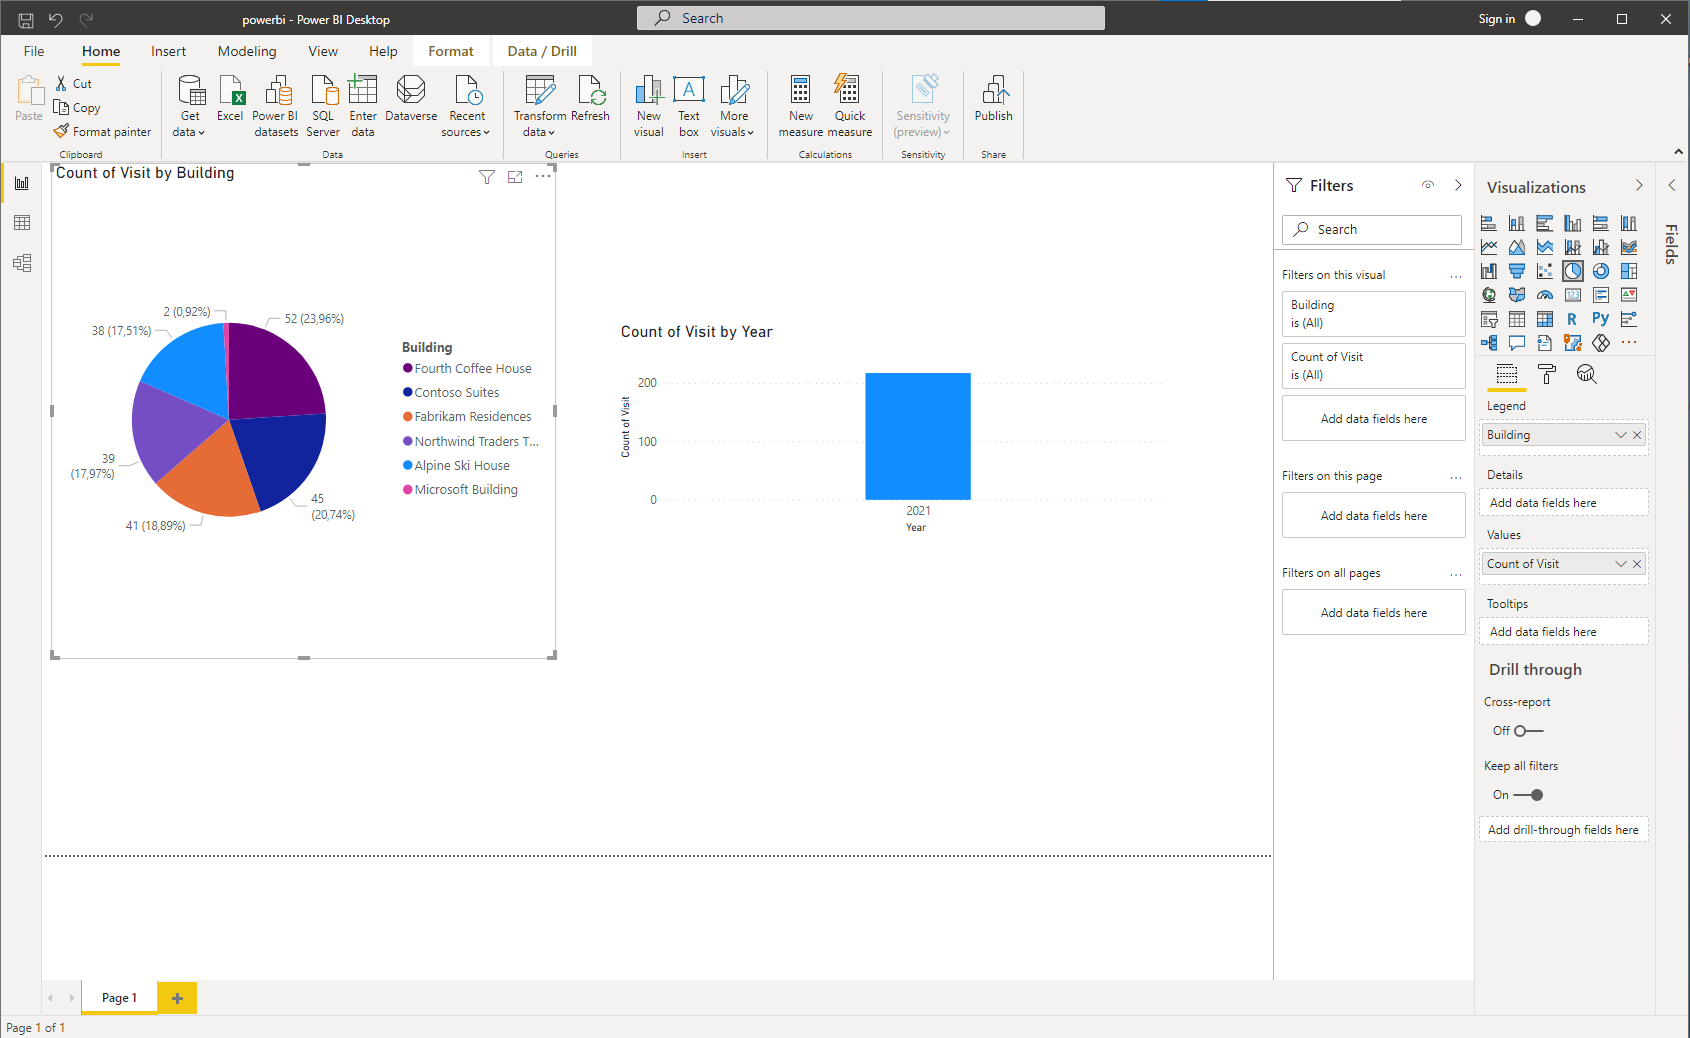

Layout of this report page (visuals, bound fields, positions):
{"tool":"powerbi","page":{"name":"Page 1","canvas":[1280,720],"ordinal":0},"visuals":[{"type":"pieChart","fields":{"Category":["bc_Visit.Building"],"Y":["CountNonNull(bc_Visit.Visit)"]},"box":[0,7.3,525.1,515.7],"z":0},{"type":"columnChart","fields":{"Y":["CountNonNull(bc_Visit.Visit)"],"Category":["bc_Visit.Start.Variation.Date Hierarchy.Year","bc_Visit.Start.Variation.Date Hierarchy.Month"]},"box":[596.8,164.3,598.9,223.6],"z":1}]}

Visuals, with their boxes on the page's 1280x720 design canvas (x1, y1, x2, y2). These are canvas units, not pixel positions in the 1690x1038 screenshot, which may show the page scaled, cropped or inside an application window:
pieChart - bc_Visit.Building x CountNonNull(bc_Visit.Visit): [0,7,525,523]
columnChart - CountNonNull(bc_Visit.Visit) x bc_Visit.Start.Variation.Date Hierarchy.Year: [597,164,1196,388]
